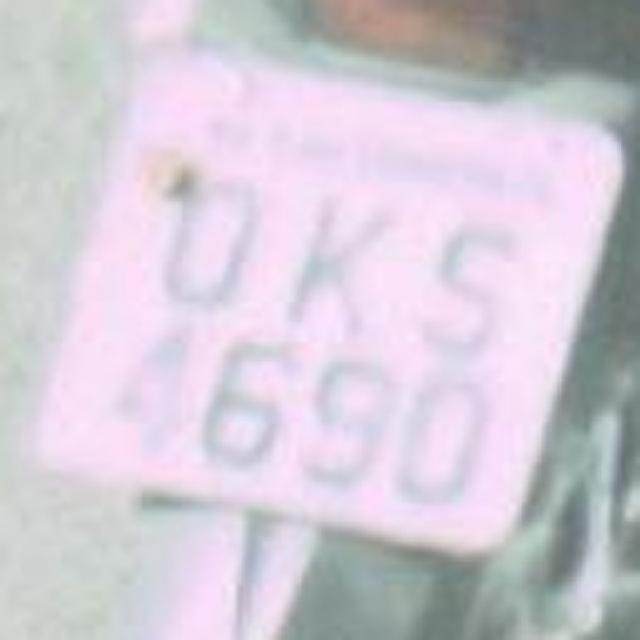0: (372, 352, 516, 520)
6: (176, 312, 304, 492)
7: (75, 464, 239, 640)
9: (280, 324, 405, 488)
O: (136, 136, 272, 324)
X: (260, 156, 400, 344)
